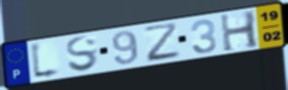3: (189, 18, 218, 54)
9: (110, 30, 140, 66)
H: (218, 9, 261, 54)
L: (29, 40, 64, 82)
S: (65, 35, 101, 73)
Z: (141, 21, 183, 64)
